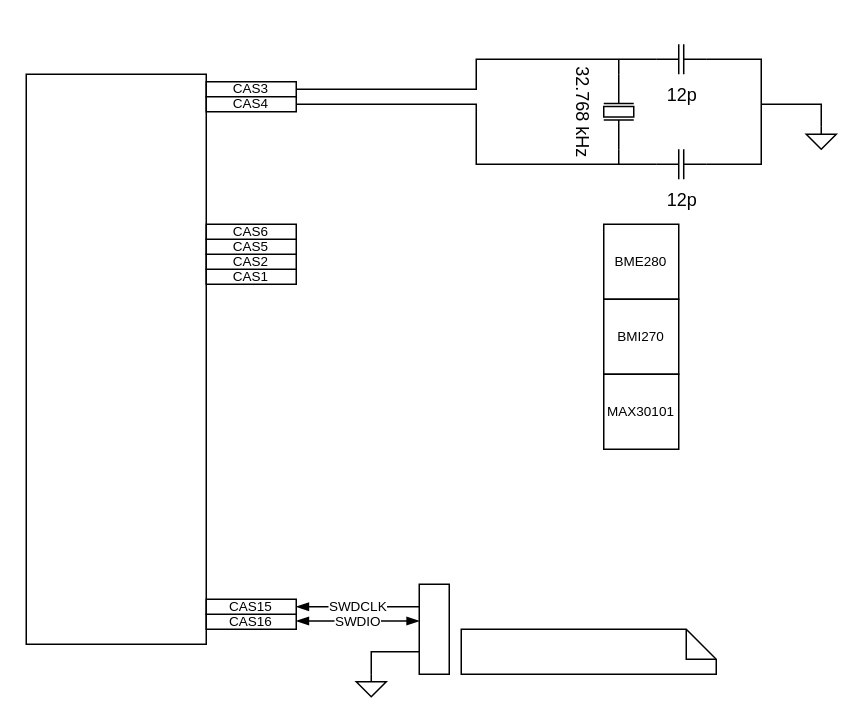
The diagram is 863 pixels wide and 723 high, and some of its shapes have lost their labels. The shapes that lost their labels are listed below. From the top down, each one's box as (x1, y1, x2, y2) in pixels, then its label:
(25, 73, 206, 644): Fanstel BT840 or BT40(?)
(418, 583, 449, 674): J202
(460, 628, 716, 674): Debug/Flashing Interface 2x5 1.27 mm pitch 1175-1735-ND
